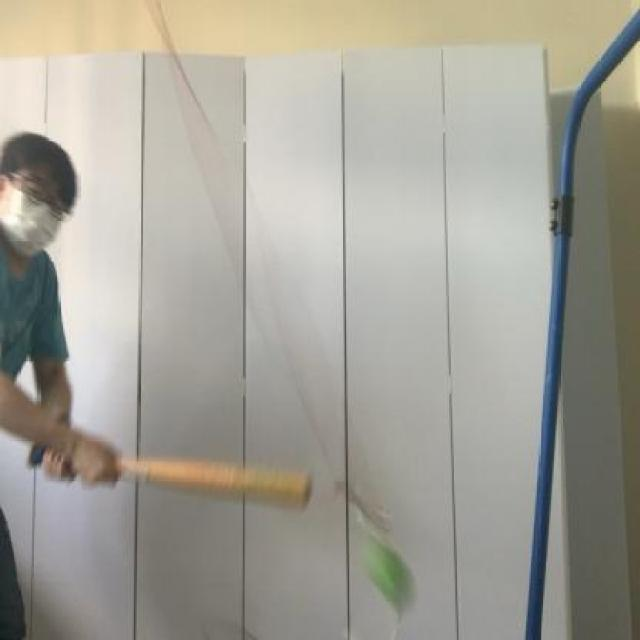baseball: (358, 522, 418, 618)
